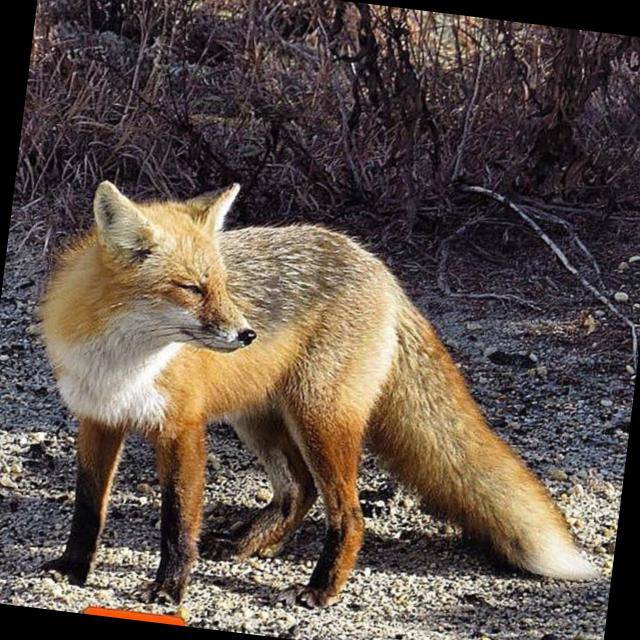fox: (0, 112, 559, 599)
